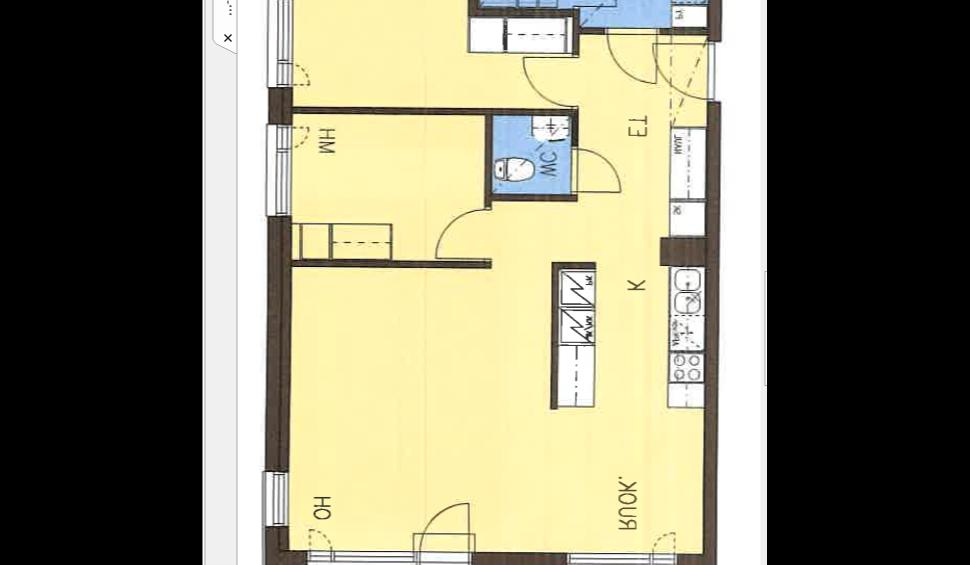bathroom: (493, 112, 576, 194)
door: (649, 39, 716, 100), (416, 496, 472, 562), (520, 51, 580, 109), (605, 23, 660, 86), (432, 204, 492, 260), (570, 146, 622, 196), (417, 548, 474, 565), (572, 0, 620, 13)
perimeter: (273, 0, 714, 565)
window: (263, 118, 296, 221), (263, 0, 297, 91), (258, 464, 294, 528), (303, 546, 418, 565), (563, 547, 681, 565)
